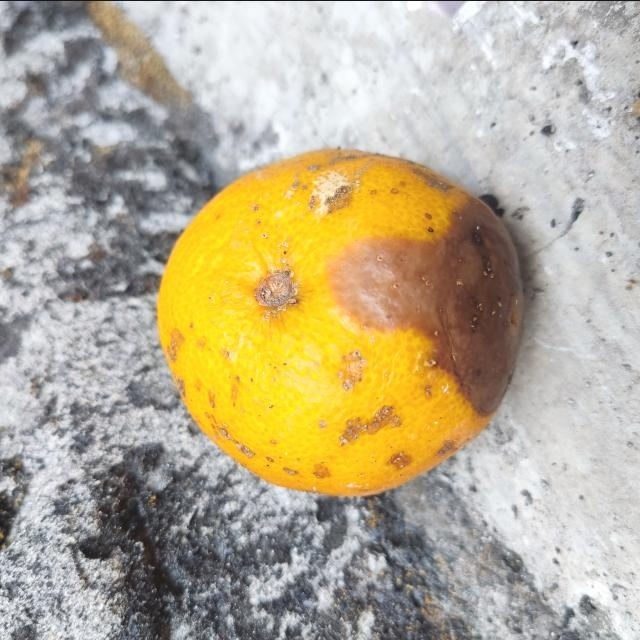agrume: (157, 147, 533, 498)
